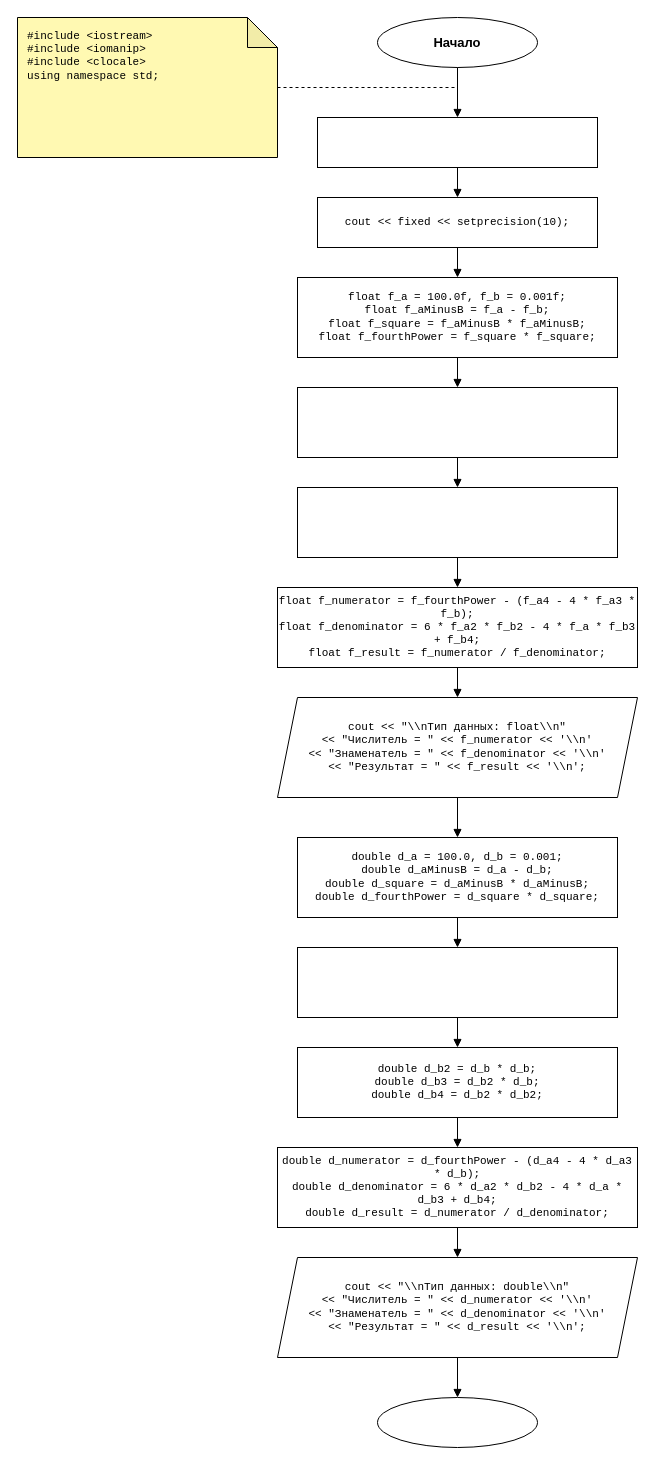
This 655x1465 diagram has some shape labels left out. The centre of each missing label's shape, as x and y in pixels:
double d_a2 = d_a * d_a; double d_a3 = d_a2 * d_a; double d_a4 = d_a2 * d_a2;: (457,982)
float f_a2 = f_a * f_a; float f_a3 = f_a2 * f_a; float f_a4 = f_a2 * f_a2;: (457,422)
float f_b2 = f_b * f_b; float f_b3 = f_b2 * f_b; float f_b4 = f_b2 * f_b2;: (457,522)
return 0;: (457,1422)
setlocale(LC_ALL, ".65001");: (457,142)
